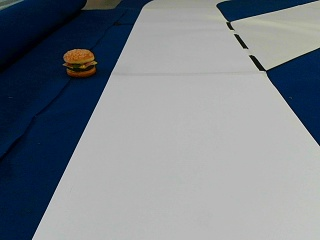burger: (63, 47, 96, 76)
